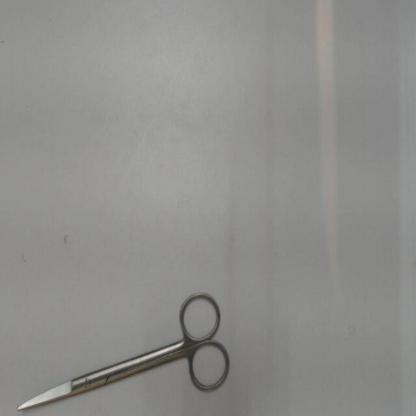Curved Mayo Scissors: (15, 284, 236, 415)
